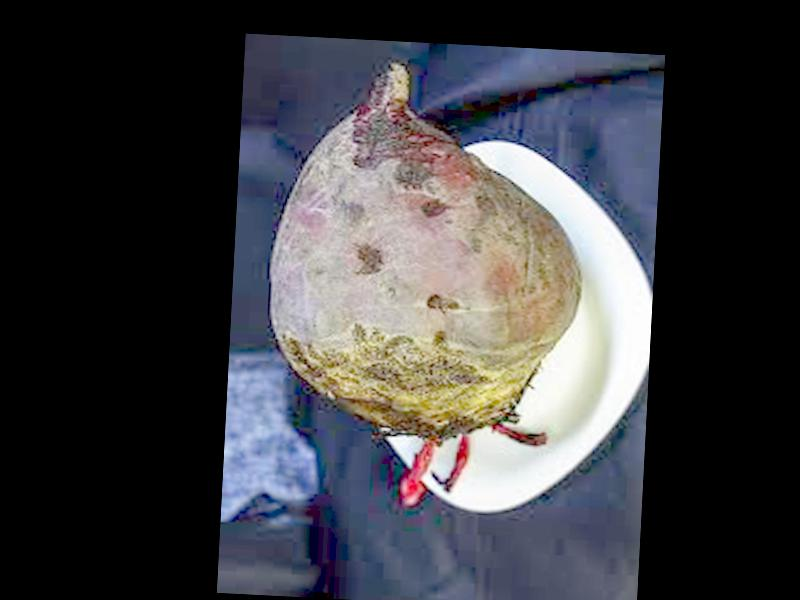Beet: (263, 60, 590, 513)
